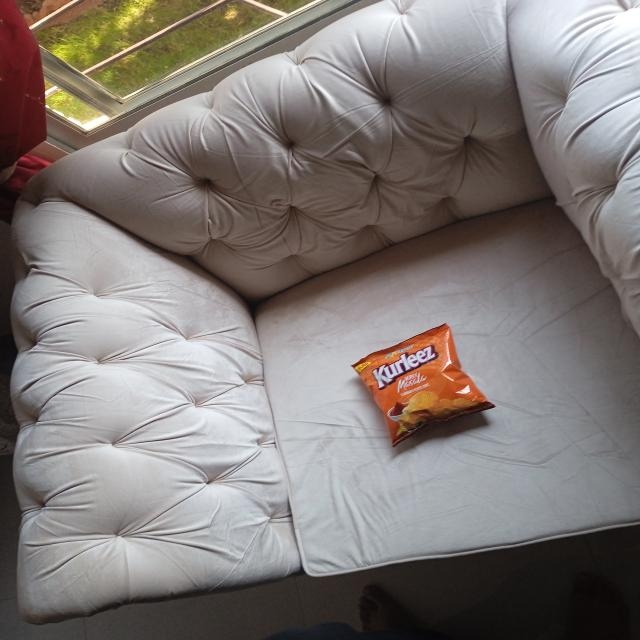Plastic: (352, 322, 494, 446)
